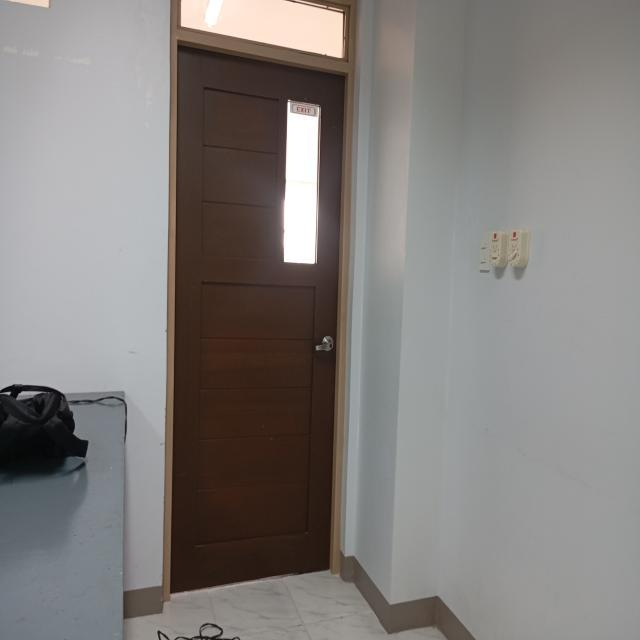door: (162, 0, 364, 600)
